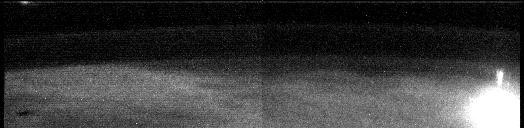positive: (491, 66, 508, 92)
